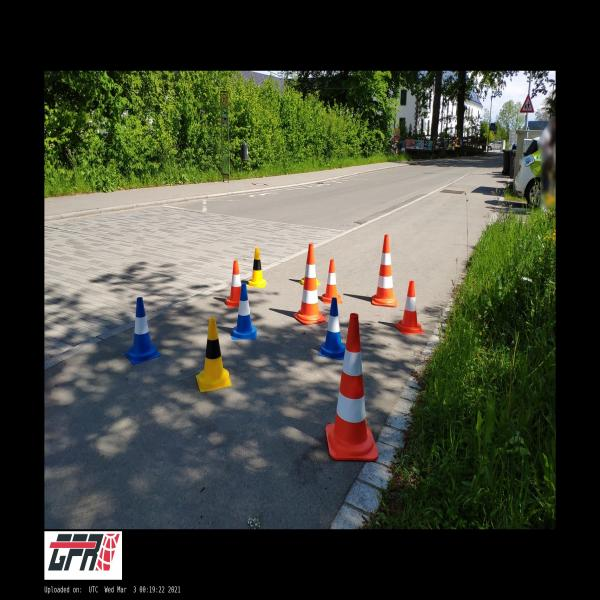blue_cone: (125, 297, 160, 365), (318, 298, 345, 360), (232, 284, 256, 339)
large_orange_cone: (326, 314, 378, 462), (293, 244, 327, 324), (372, 234, 398, 306)
orange_cone: (393, 281, 424, 334), (320, 260, 342, 303), (224, 260, 241, 308)
yellow_cone: (197, 318, 231, 392), (247, 247, 267, 287)
